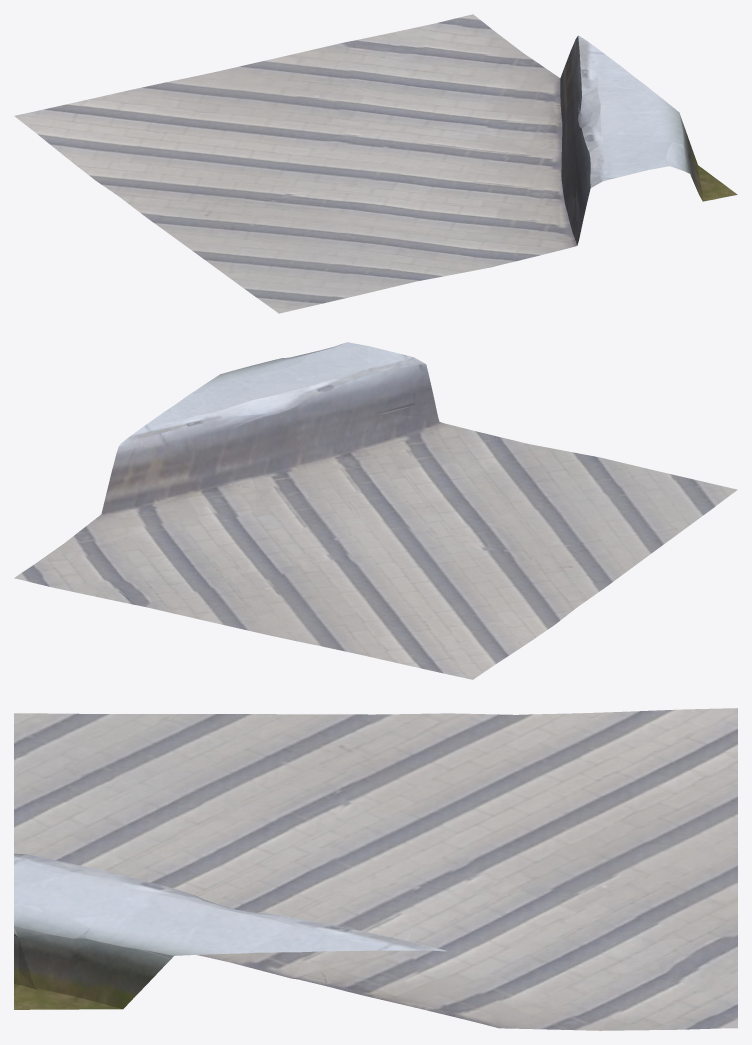
3 views of the same model, one above another, from view 1: azimuth 30°, elevation 25°; view 2: azimuth 150°, elevation 25°; view 3: azimuth 270°, elevation 25° (orthographic). The views are drawn at different scales.
Size of the model in its own units: 4.18 by 0.544 by 4.18.
Materials: 2 (2 with a texture image).
